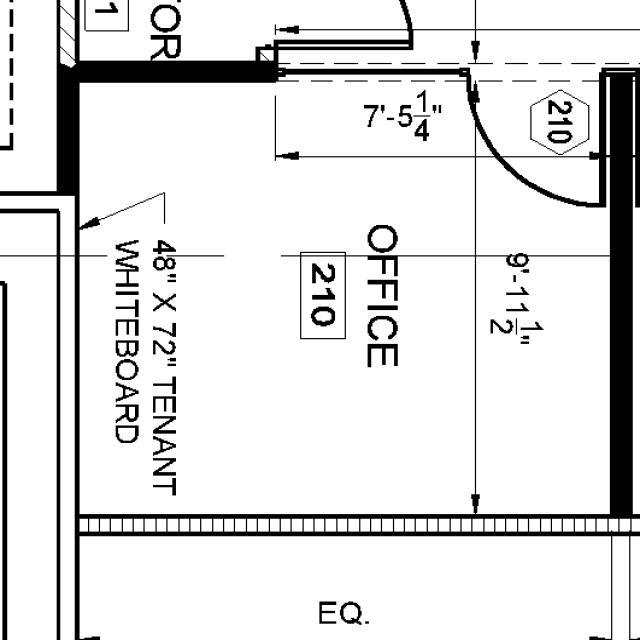Doors: (464, 67, 630, 236), (461, 61, 610, 213)
